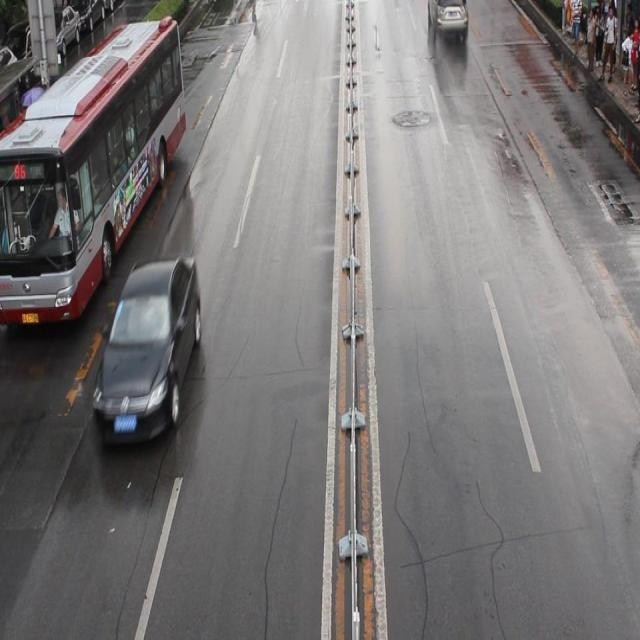car: (94, 254, 201, 442), (426, 1, 467, 36)
van: (1, 18, 184, 320)
